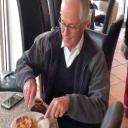fork: (32, 105, 54, 124)
